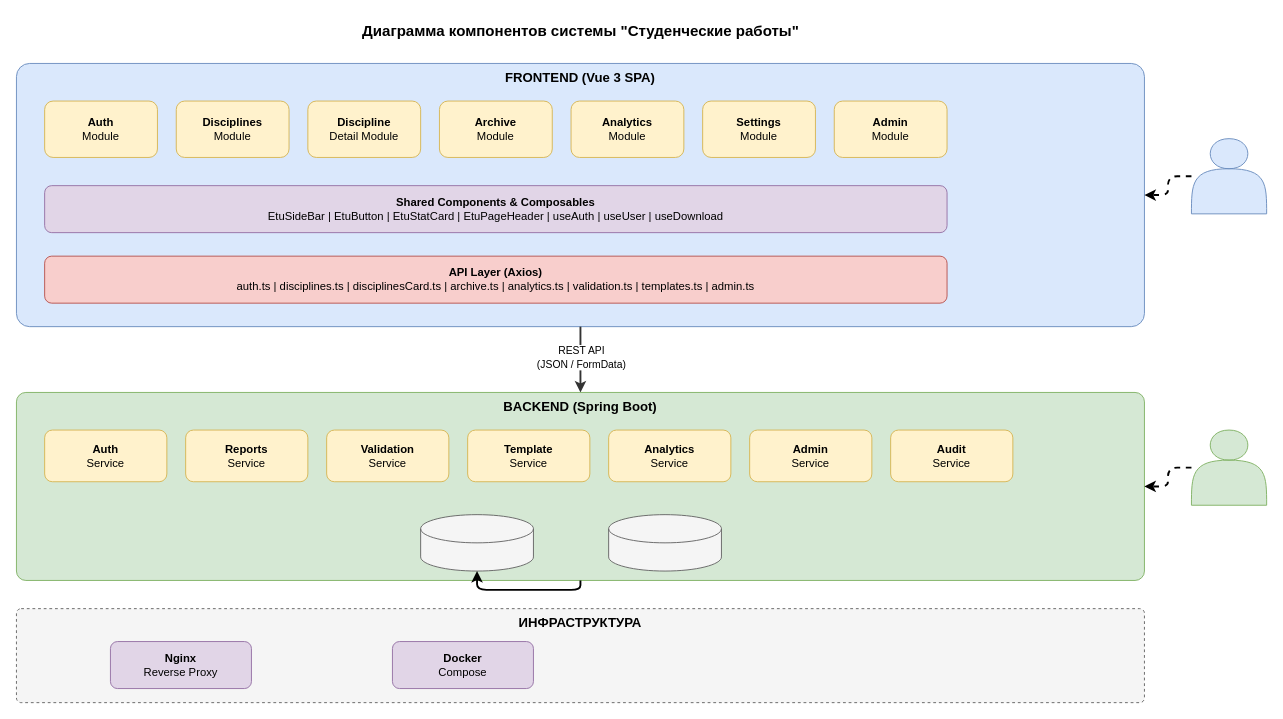
The diagram is 1283 pixels wide and 719 high, and some of its shapes have lost their labels. The centre of each missing label's shape, as x and y in pixels:
"Database" belongs at point 476,542.
"ETU System" belongs at point 1229,467.
"File Storage (документы)" belongs at point 664,542.
"Браузер пользователя" belongs at point 1229,176.
